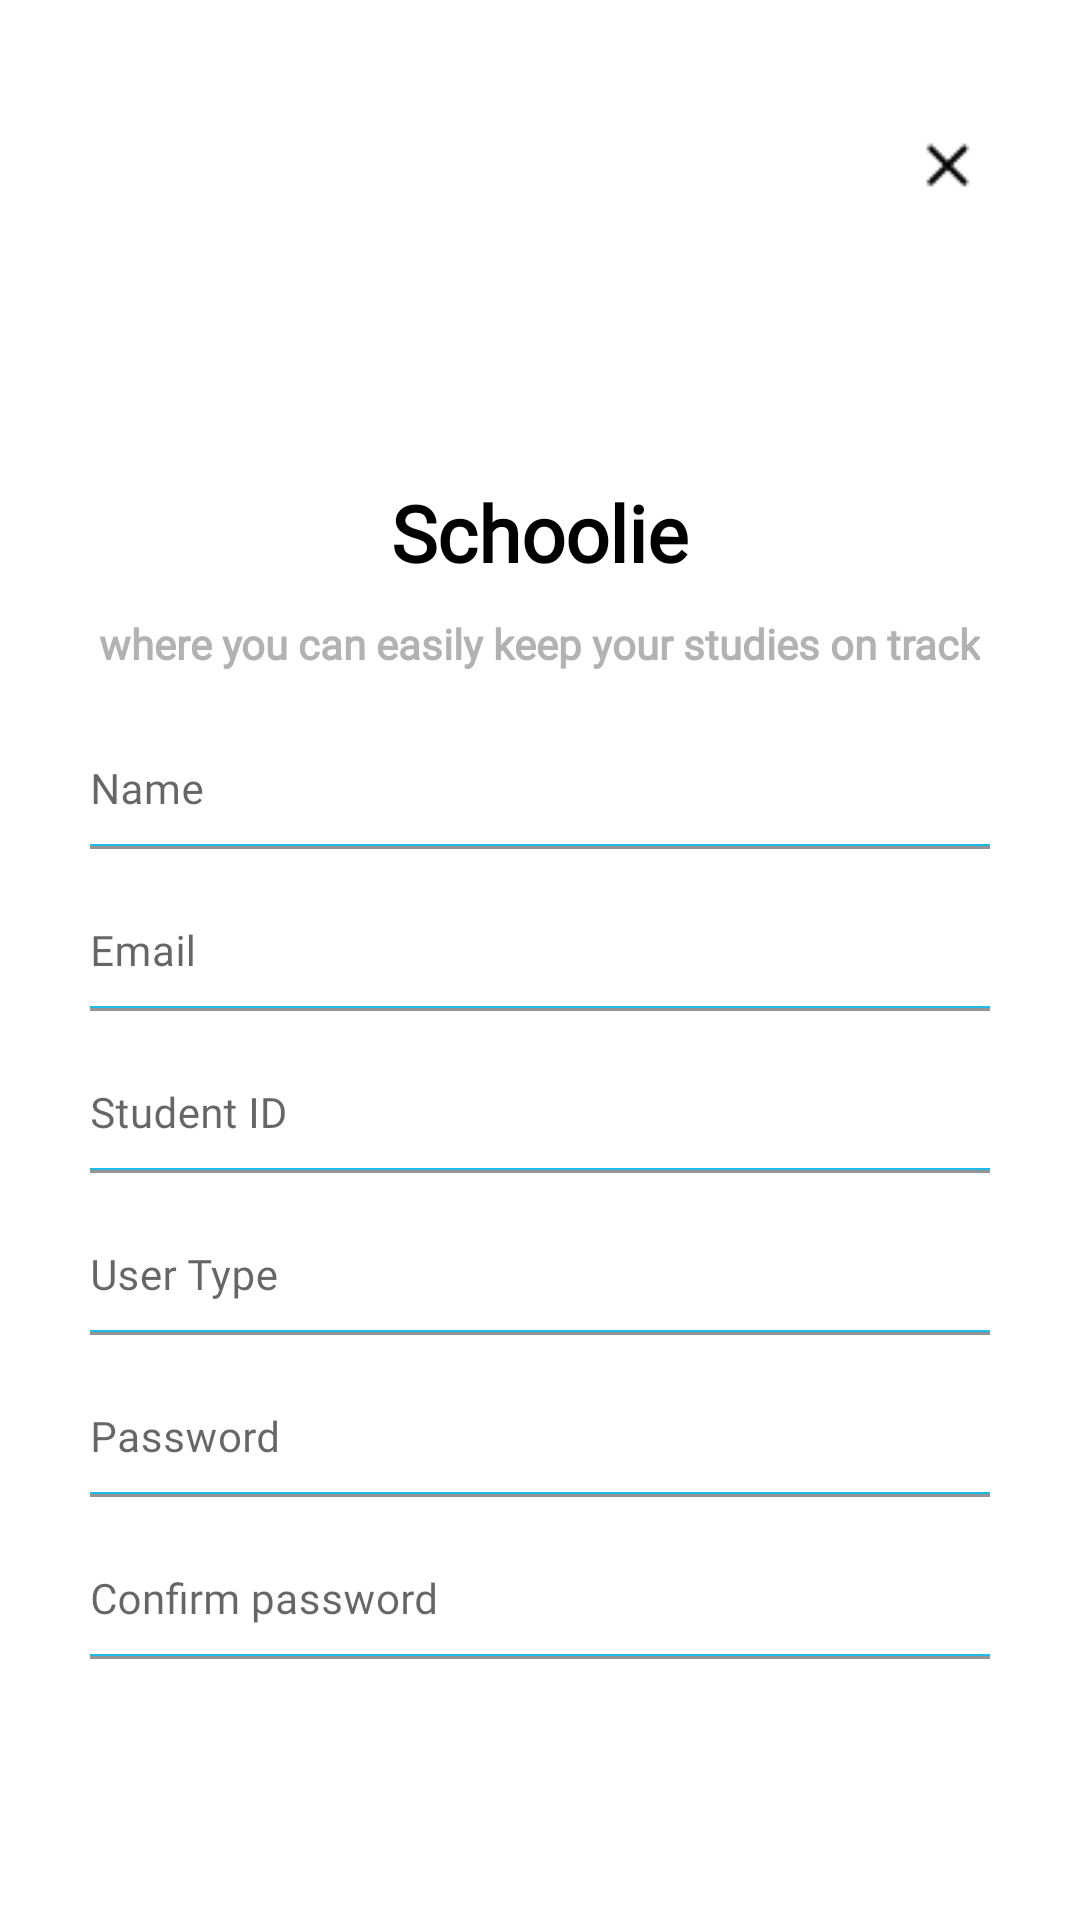

Screen size 1080*1920. Icon name, then its box in pixels as (x1, y1, x2, y2):
exit: (926, 143, 970, 187)
